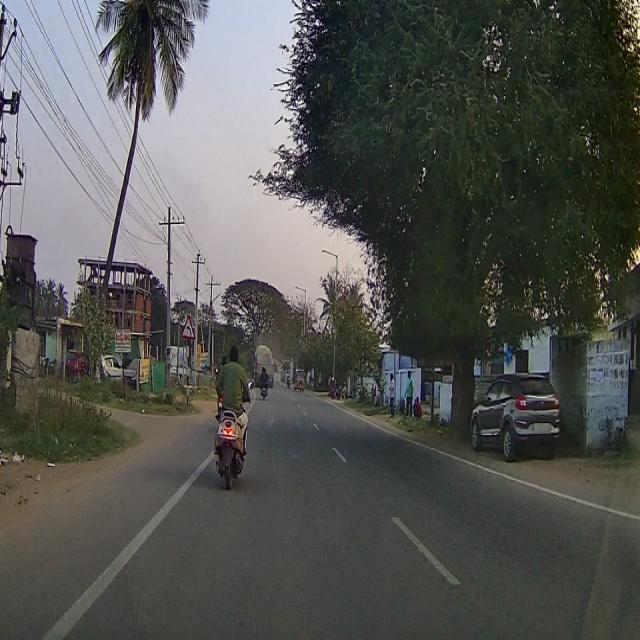right-hand-curve: (183, 314, 194, 336)
